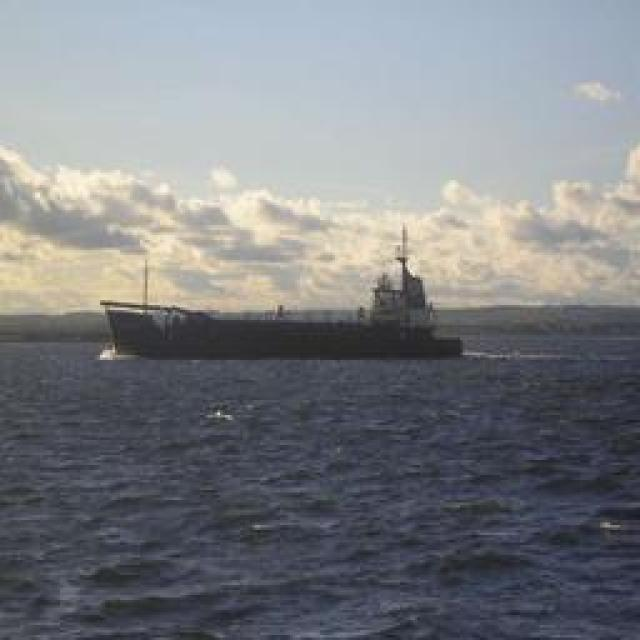CIV_Ship: (106, 235, 456, 360)
